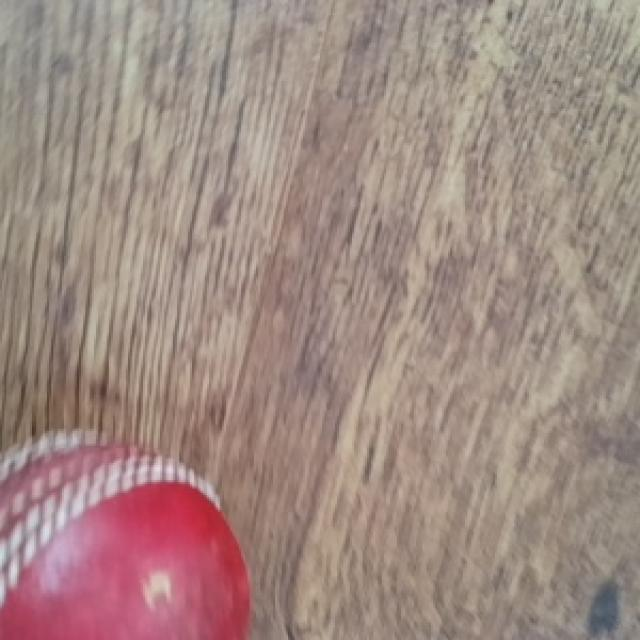ball: (0, 446, 252, 640)
